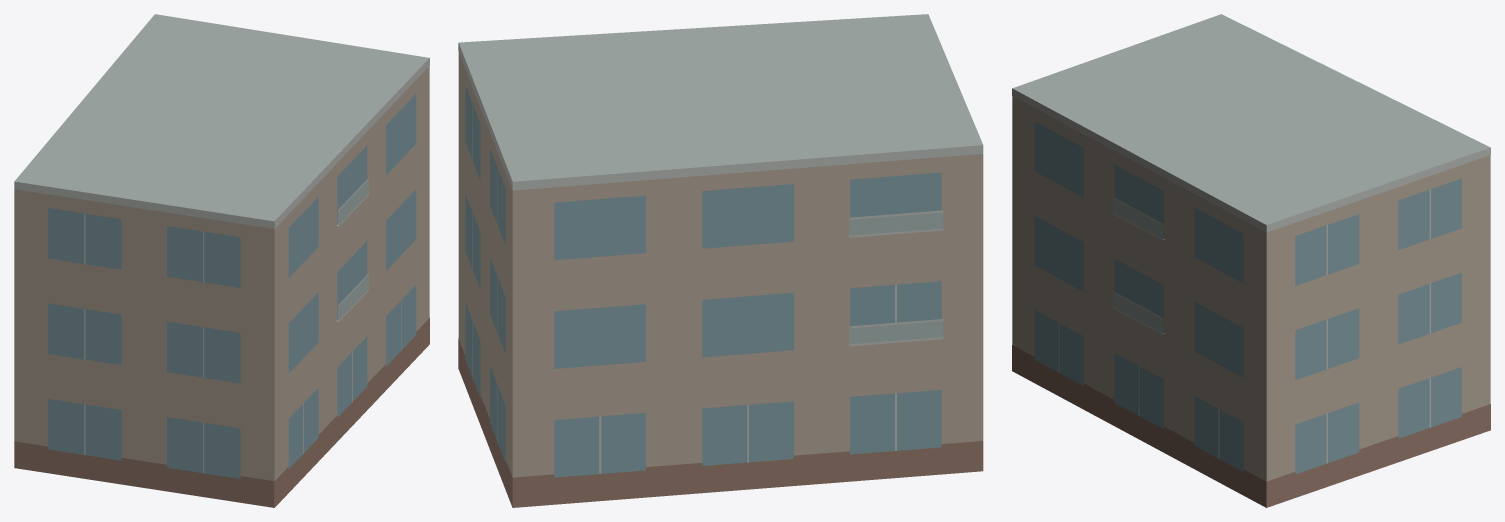
The model's file is survey-upis-32799204.glb.
The picture shows the model from 3 angles, left to right: view 1: azimuth 30°, elevation 25°; view 2: azimuth 150°, elevation 25°; view 3: azimuth 270°, elevation 25°; orthographic projection. The views are drawn at different scales.
Visible parts, largest first — view 1: survey-upis-32799204.tmp; view 2: survey-upis-32799204.tmp; view 3: survey-upis-32799204.tmp.
Boxes of the visible parts, x1=… form: survey-upis-32799204.tmp: x1=14, y1=14, x2=429, y2=507; survey-upis-32799204.tmp: x1=458, y1=14, x2=983, y2=507; survey-upis-32799204.tmp: x1=1012, y1=14, x2=1490, y2=507.
Bounding box in the file's own units: 14.66 × 9.15 × 14.04.
